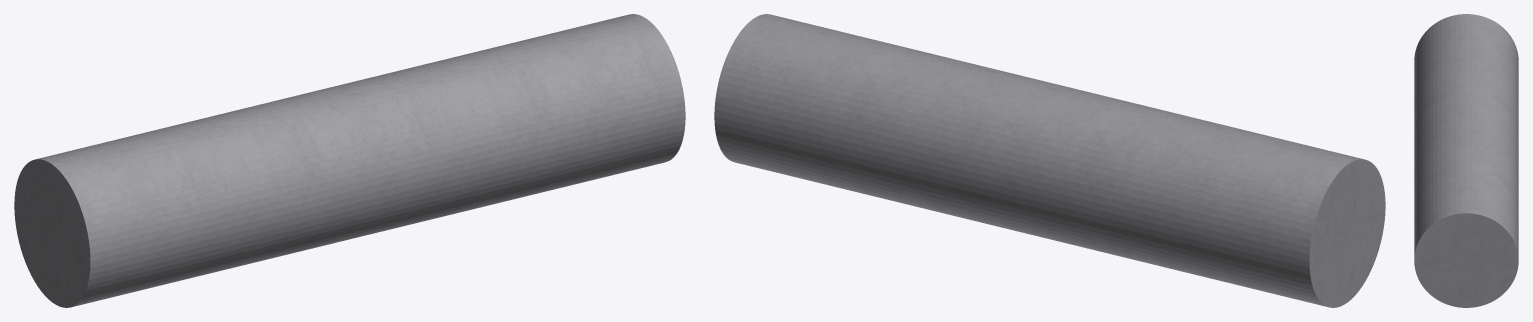
The model's file is fast_shaft.glb.
The picture shows the model from 3 angles, left to right: view 1: azimuth 30°, elevation 25°; view 2: azimuth 150°, elevation 25°; view 3: azimuth 270°, elevation 25°; orthographic projection. The views are drawn at different scales.
Parts seen in each view (by area): view 1: hss; view 2: hss; view 3: hss.
Boxes of the visible parts, left/top/right/bottom form: hss: left=14, top=14, right=685, bottom=307; hss: left=714, top=14, right=1385, bottom=307; hss: left=1414, top=14, right=1518, bottom=307.
Bounding box in the file's own units: 1.3 × 0.288 × 0.288.
Materials: 1 (1 with a texture image).
